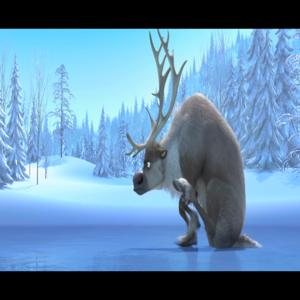sven: (129, 42, 264, 260)
